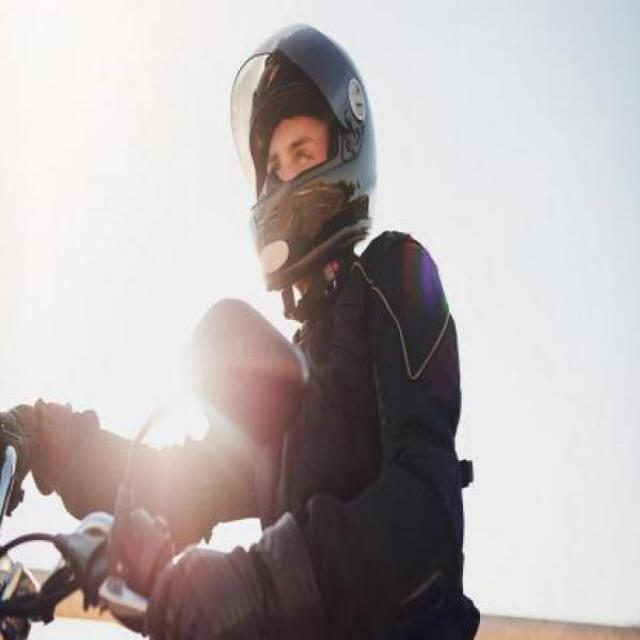Helmet: (213, 27, 363, 250)
